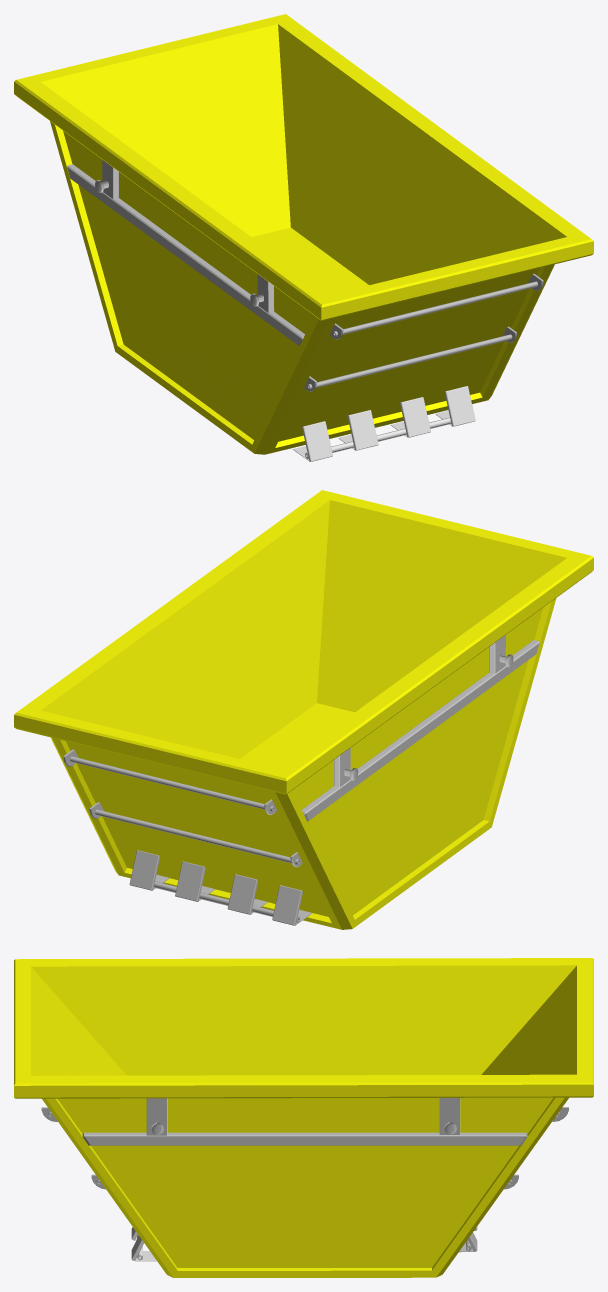
File: Skip.fbx
The picture shows the model from 3 angles, top to bottom: view 1: azimuth 30°, elevation 25°; view 2: azimuth 150°, elevation 25°; view 3: azimuth 270°, elevation 25°; orthographic projection. The views are drawn at different scales.
Visible parts, largest first — view 1: Box002, Box004, Tube002, Cylinder008; view 2: Box002, Box004, Tube001, Cylinder008; view 3: Box002, Box004, Cylinder008, Tube002.
Boxes of the visible parts, left/top/right/bottom form: Box002: left=14, top=14, right=593, bottom=454; Box004: left=67, top=160, right=304, bottom=345; Tube002: left=292, top=386, right=475, bottom=461; Cylinder008: left=304, top=273, right=543, bottom=391; Box002: left=14, top=490, right=593, bottom=929; Box004: left=302, top=635, right=539, bottom=821; Tube001: left=129, top=850, right=312, bottom=925; Cylinder008: left=63, top=749, right=302, bottom=867; Box002: left=14, top=958, right=593, bottom=1277; Box004: left=82, top=1098, right=527, bottom=1145; Cylinder008: left=41, top=1107, right=568, bottom=1189; Tube002: left=131, top=1227, right=156, bottom=1261.
Bounding box in the file's own units: 128 × 97.57 × 250.
